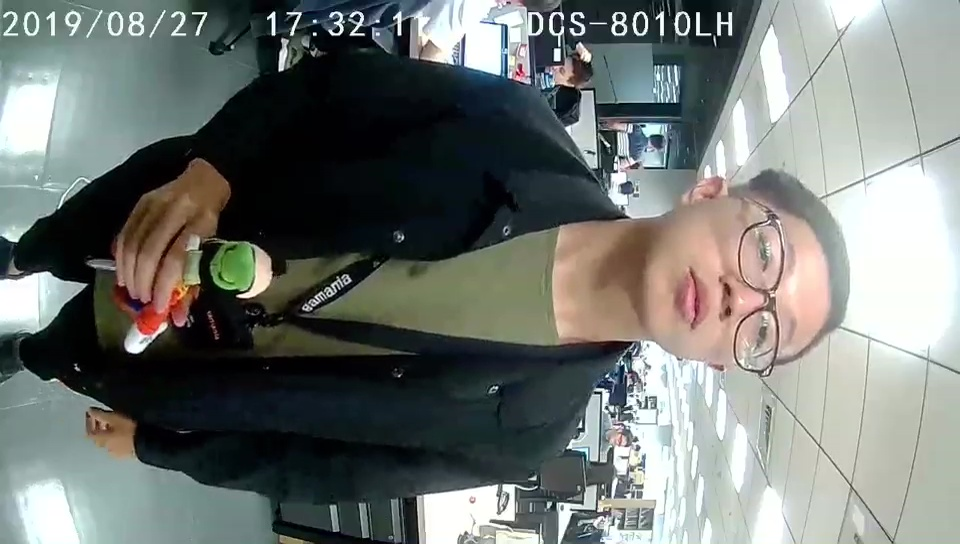goofy: (113, 231, 274, 357)
